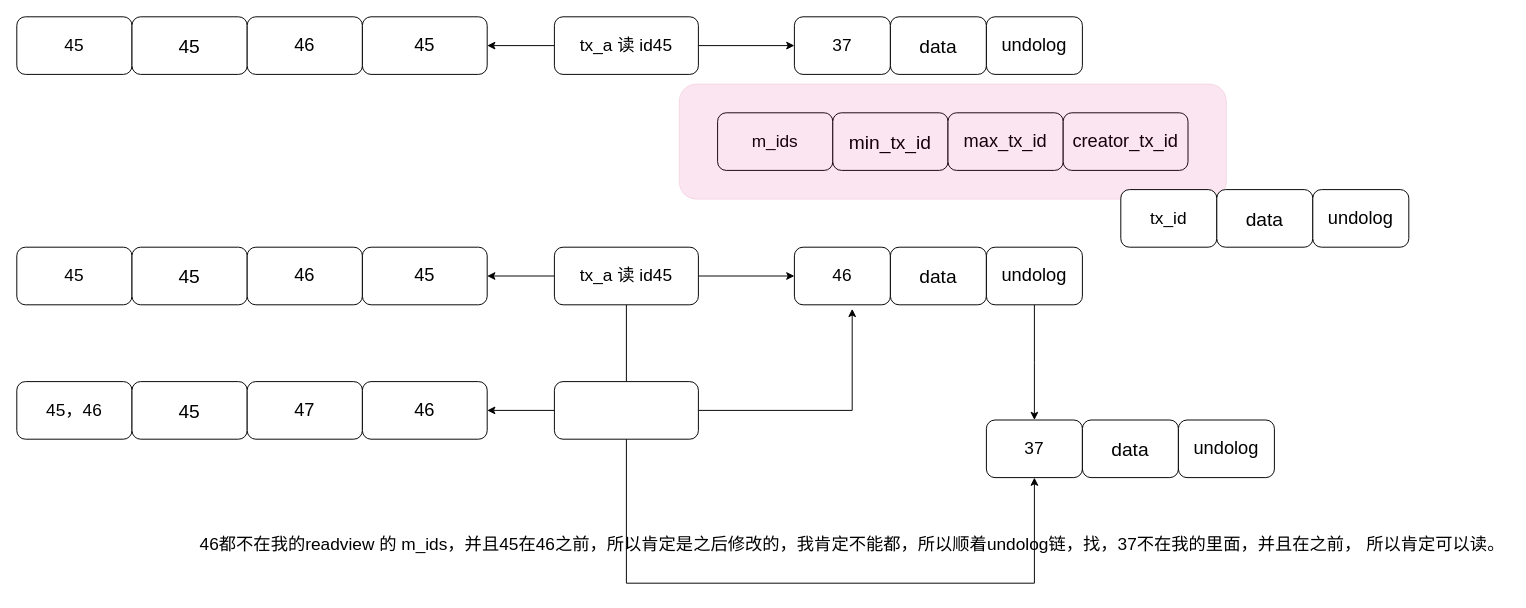
The diagram is 1526 pixels wide and 608 high, and some of its shapes have lost their labels. Here are the shapes that lost their labels. From the top down, the centre of each, then its label:
(x=952, y=141): readview
(x=625, y=410): tx_a 写 id46
